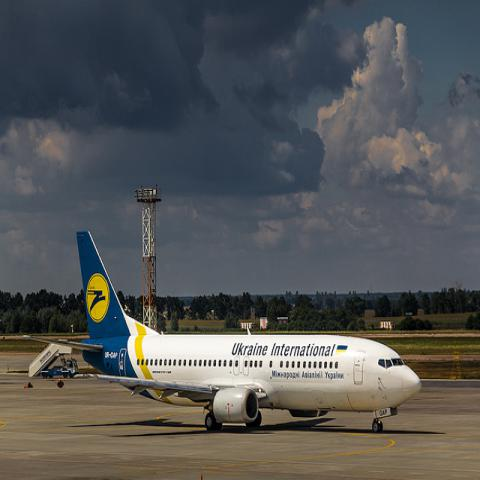truck: (28, 357, 80, 381)
